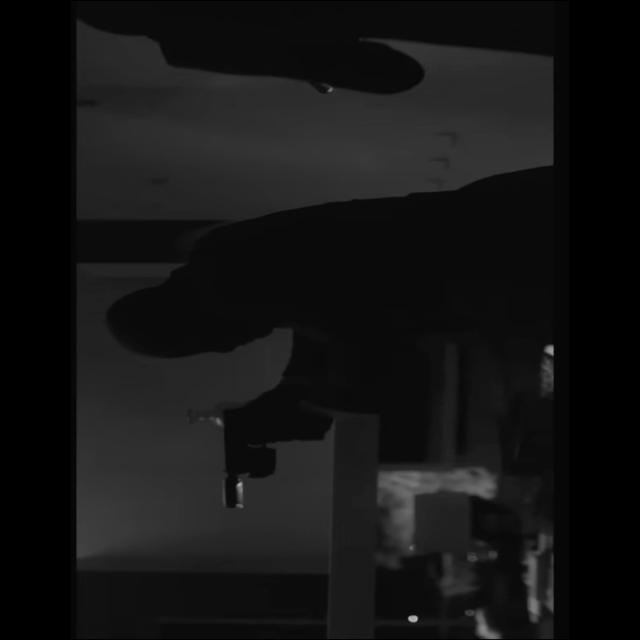weapons: (200, 402, 303, 516)
